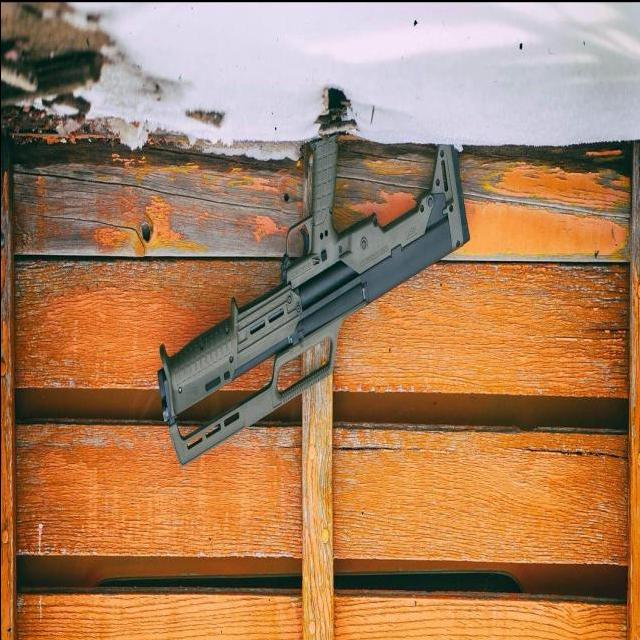rifle: (147, 135, 470, 470)
